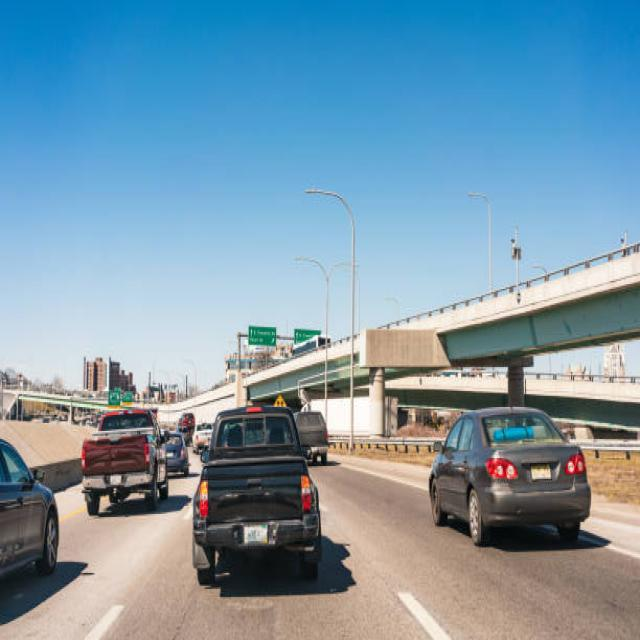Car: (428, 404, 591, 546), (0, 436, 60, 581)
Pickup: (191, 402, 321, 584), (80, 406, 168, 516)
Traffic-sign: (247, 324, 276, 346), (293, 327, 321, 345)
